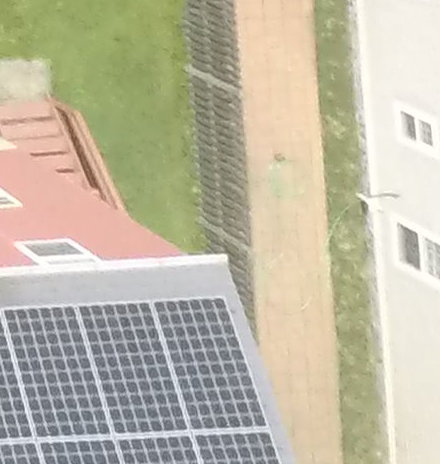fence: (174, 2, 269, 344)
